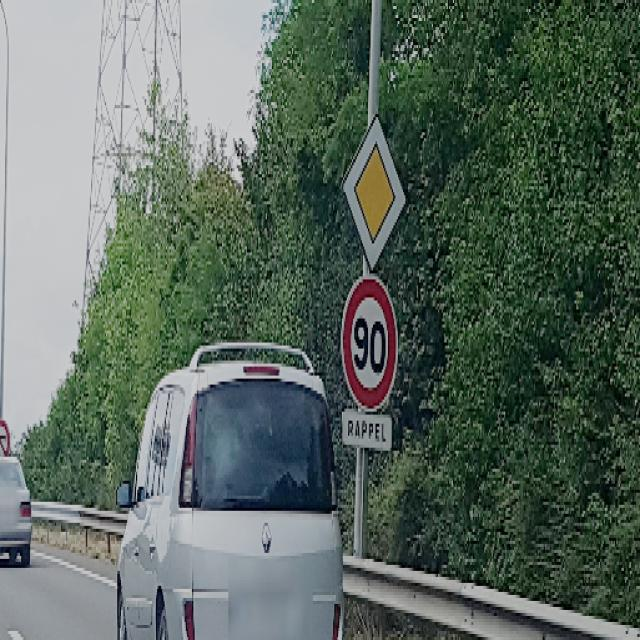speed_90: (340, 278, 398, 414)
